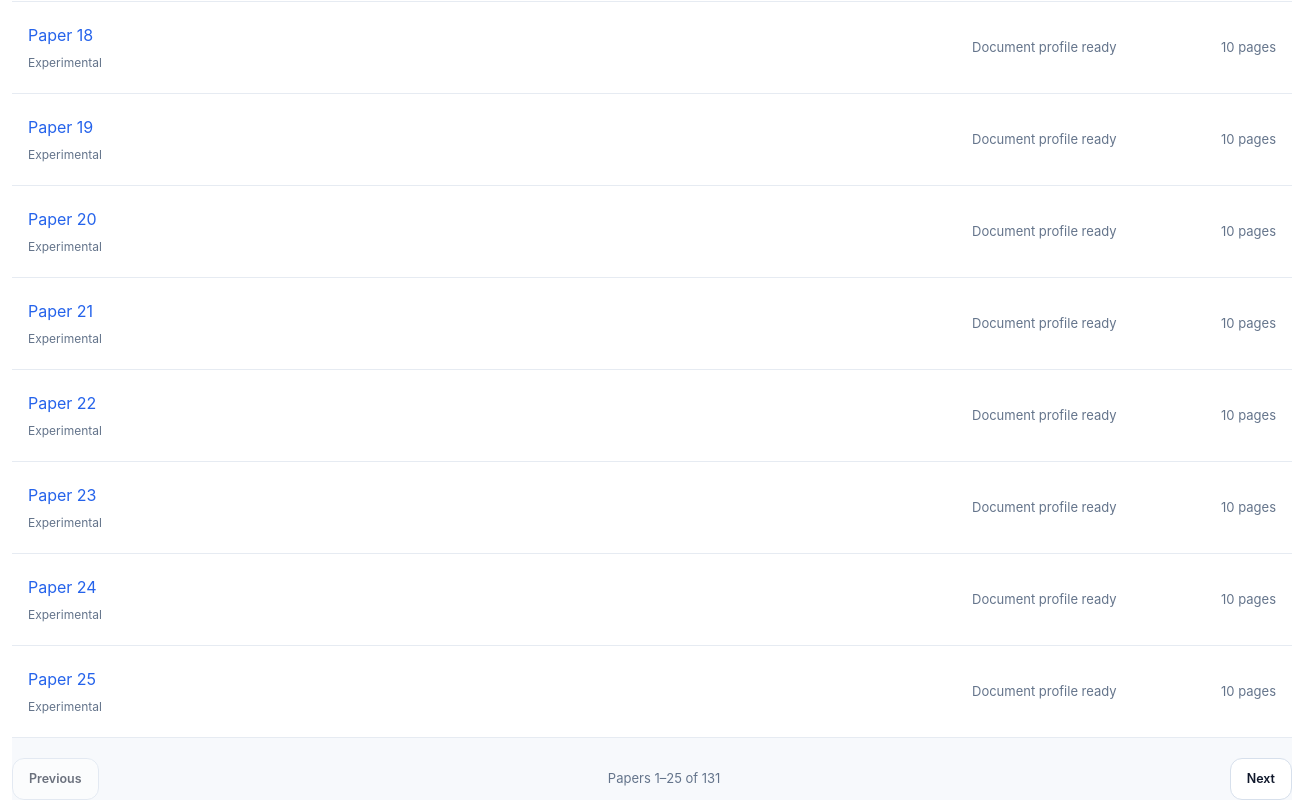
Test case: collections/[id]/documents/+page.svelte › requests the next page with the correct offset
(page scrolled)
Click the button "Next" at point(1261, 779), box [1230,758,1292,799]
(page scrolled)
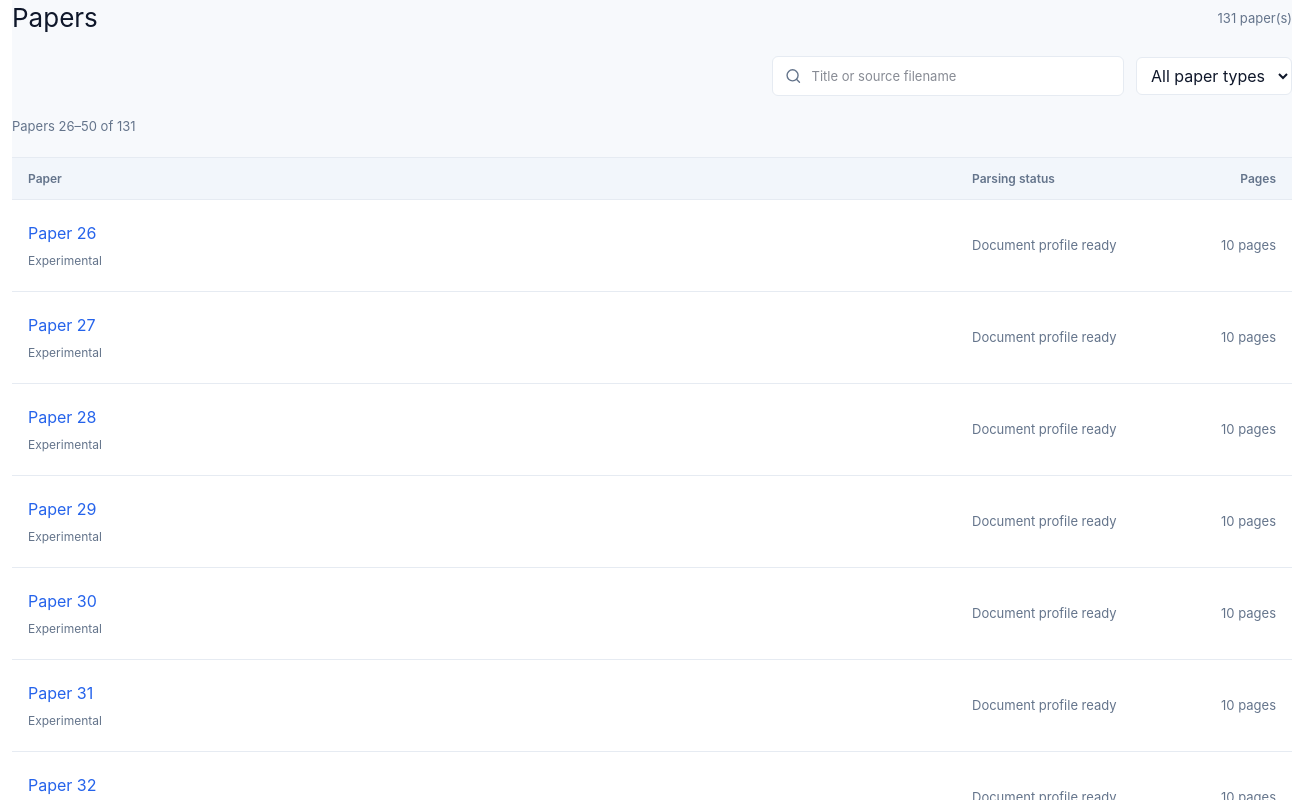
Check: the text "Papers 26–50 of 131" is shown, box [12,118,136,134]
